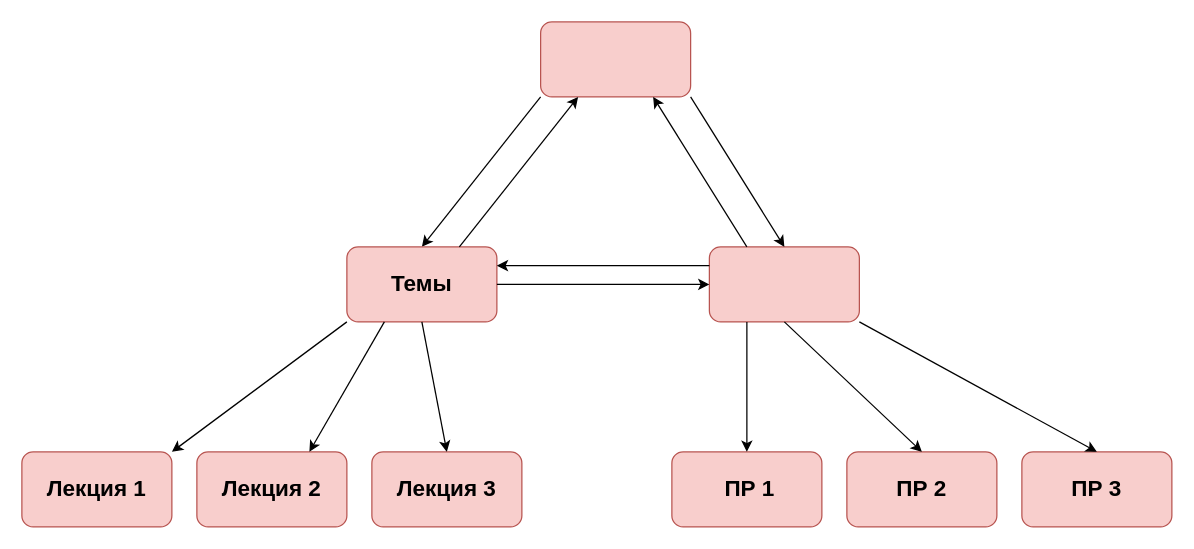
Some shapes in this 1194 by 549 pixel diagram are drawn without their labels. Each missing label, with the centre of its shape:
"Главная" belongs at (615,59).
"ПР" belongs at (783,284).
